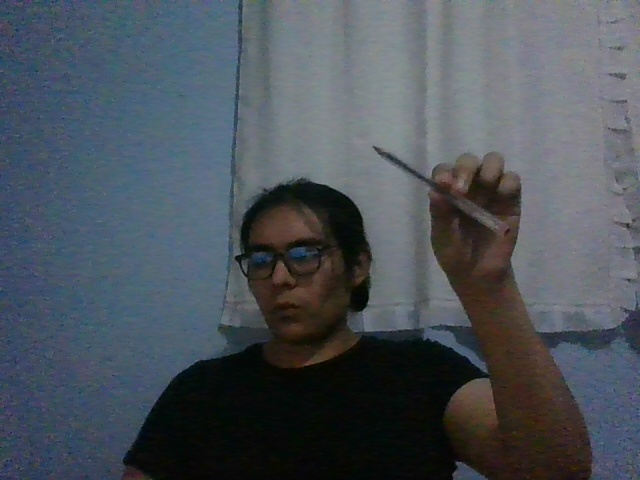pluma: (369, 144, 512, 237)
